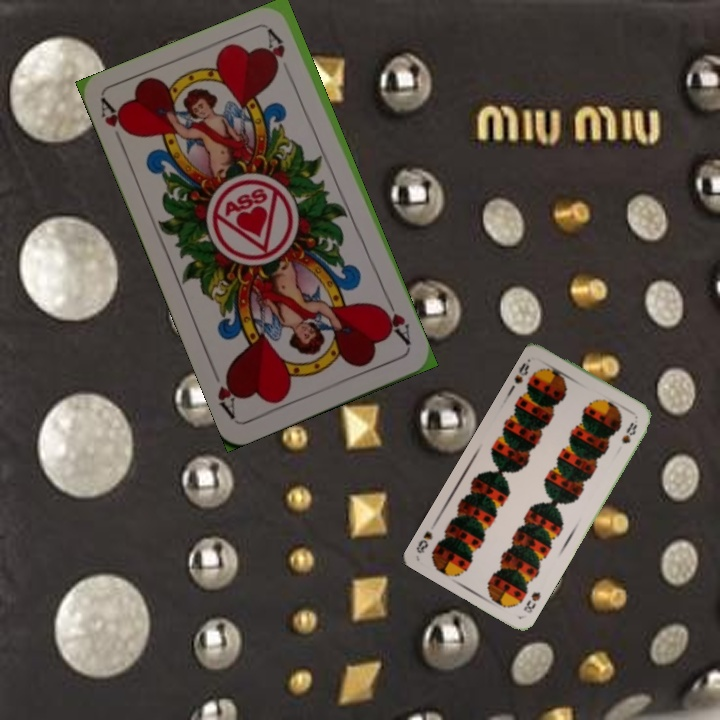HA: (96, 96, 134, 153), (375, 293, 414, 348)
S8: (519, 587, 543, 616), (510, 358, 532, 386)
